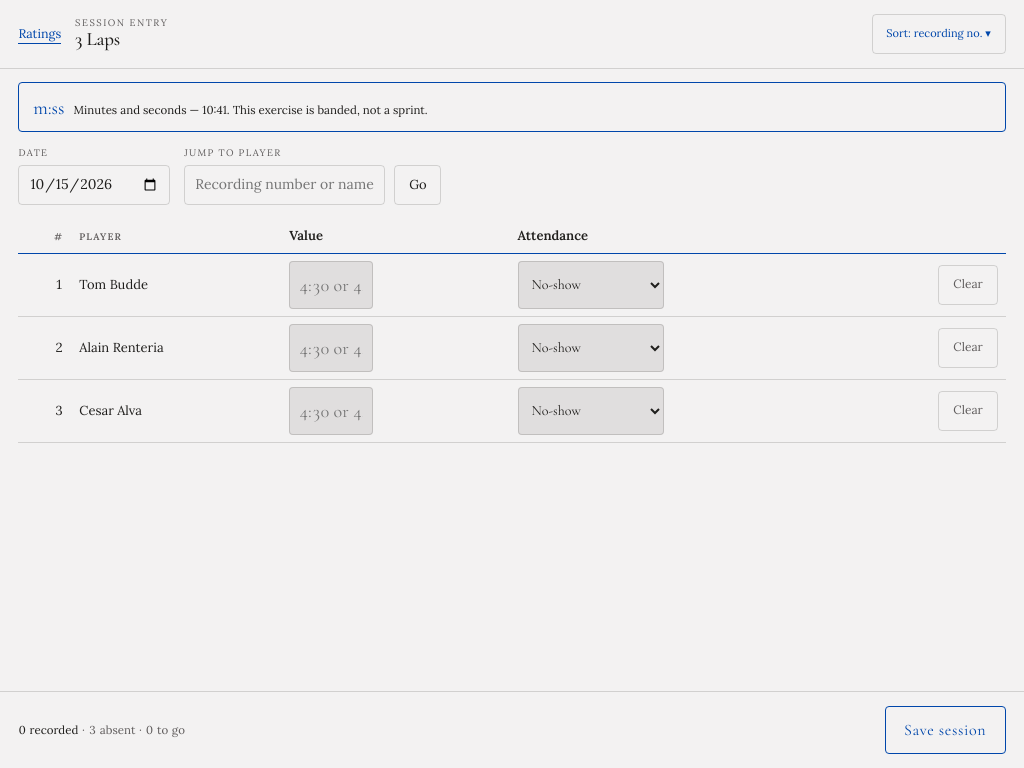
Test: attendance follows what is typed › marks a player present when a value is entered
Check: the dropdown in the row of "Tom Budde" shows "No-show", box x1=518 y1=261 x2=664 y2=309
Type "4:10" into the field with placeholder "4:30 or 4.30" next to "Tom Budde" at (331, 285), box x1=289 y1=261 x2=373 y2=309
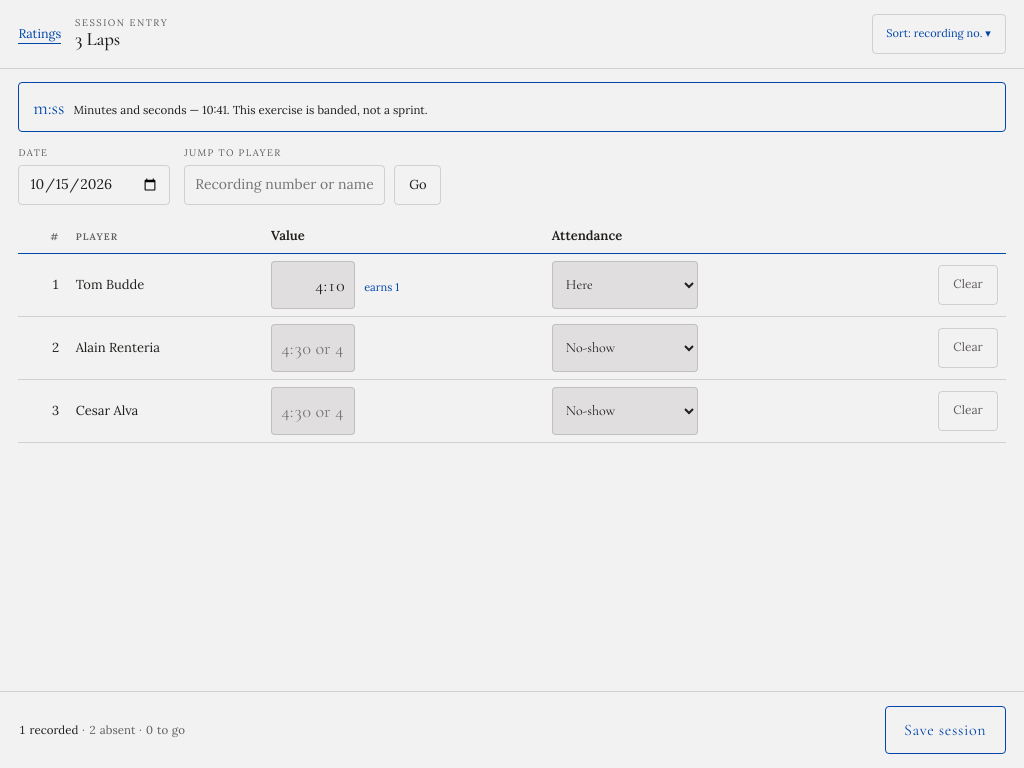
Check: the dropdown in the row of "Tom Budde" shows "Here", box x1=552 y1=261 x2=698 y2=309
